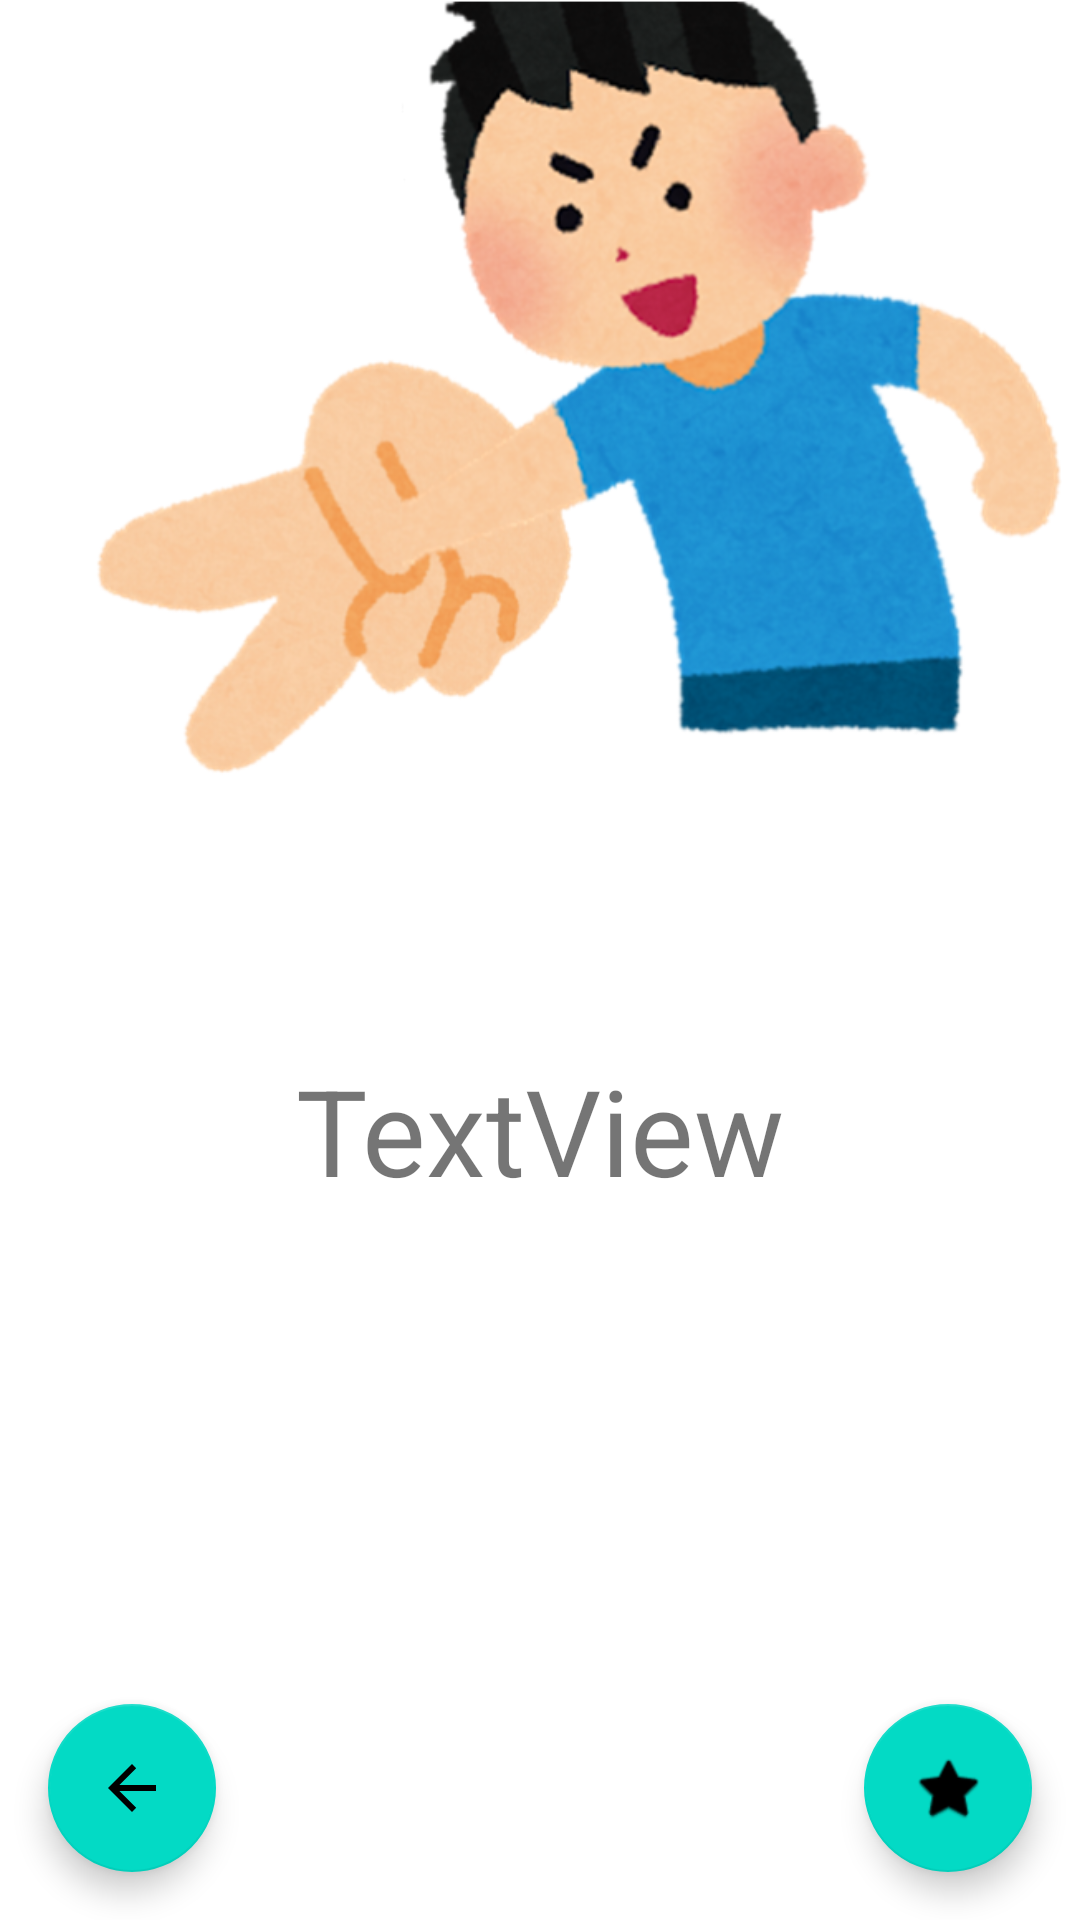

Where icons sit on this 1080w x 1920h app screen, as (x1, y1, x2, y2):
star: (864, 1704, 1032, 1872)
